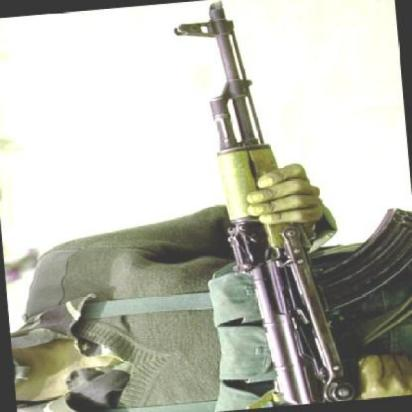Gun: (176, 0, 361, 402)
